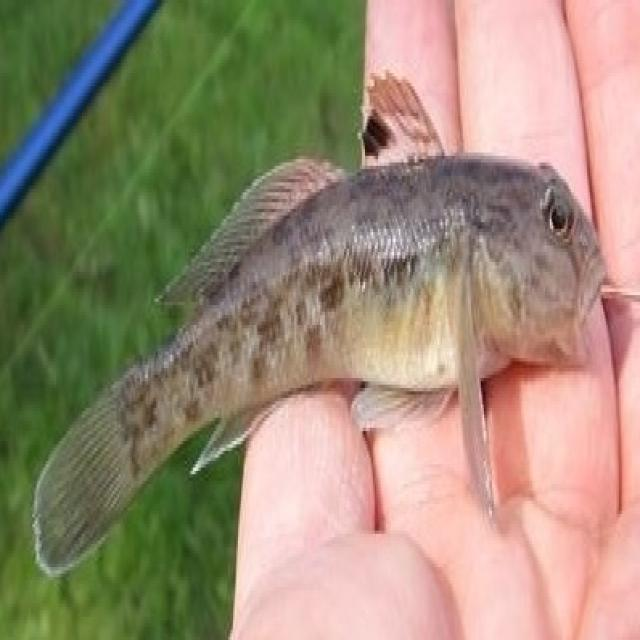Goby: (0, 0, 619, 618)
